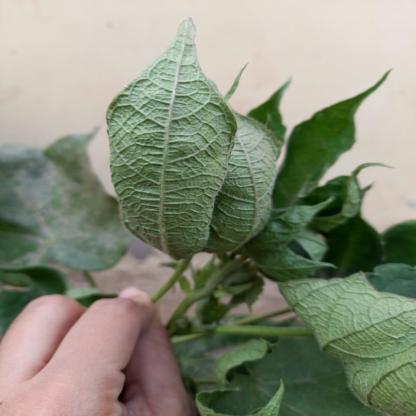curl_stage2: (126, 89, 218, 246), (290, 283, 398, 351), (231, 144, 295, 234), (347, 341, 416, 414), (212, 116, 270, 176), (195, 385, 296, 416), (165, 62, 214, 111), (259, 254, 329, 286)
